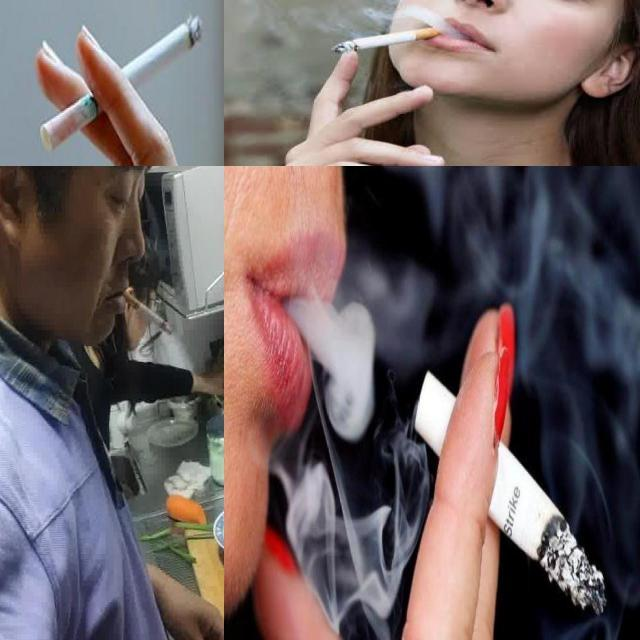smoke: (413, 370, 607, 616), (36, 13, 204, 154), (331, 26, 450, 54), (122, 288, 172, 334)
